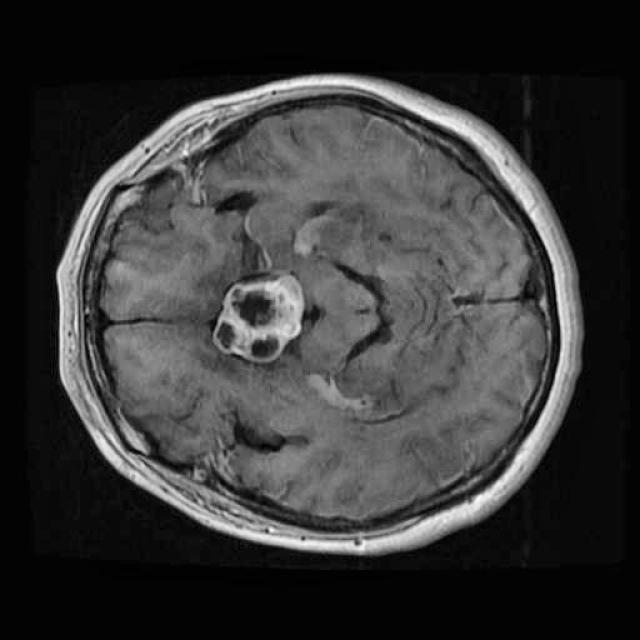Tumor: (205, 264, 312, 370)
